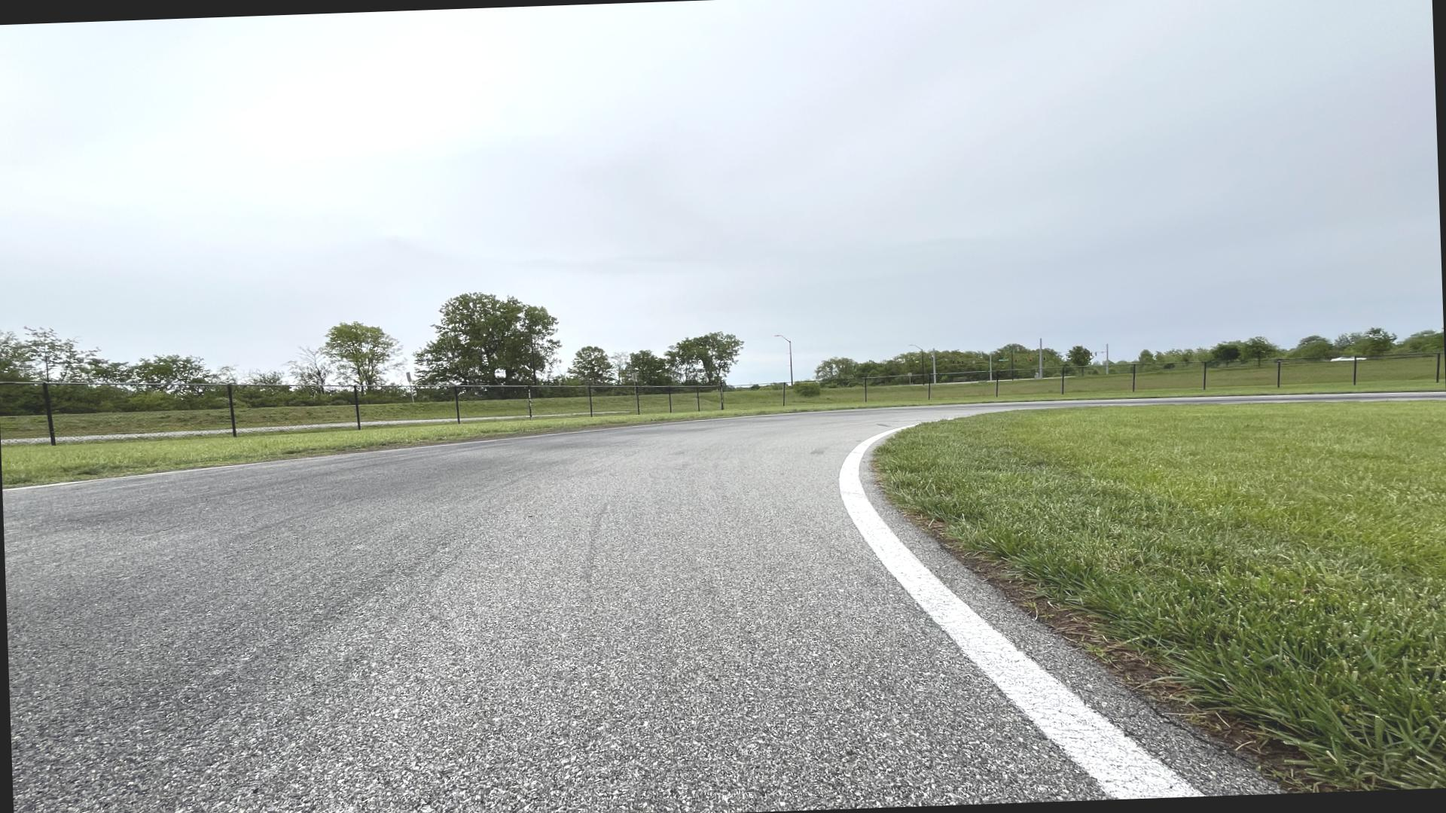white-line: (833, 423, 1220, 799), (2, 413, 803, 492)
